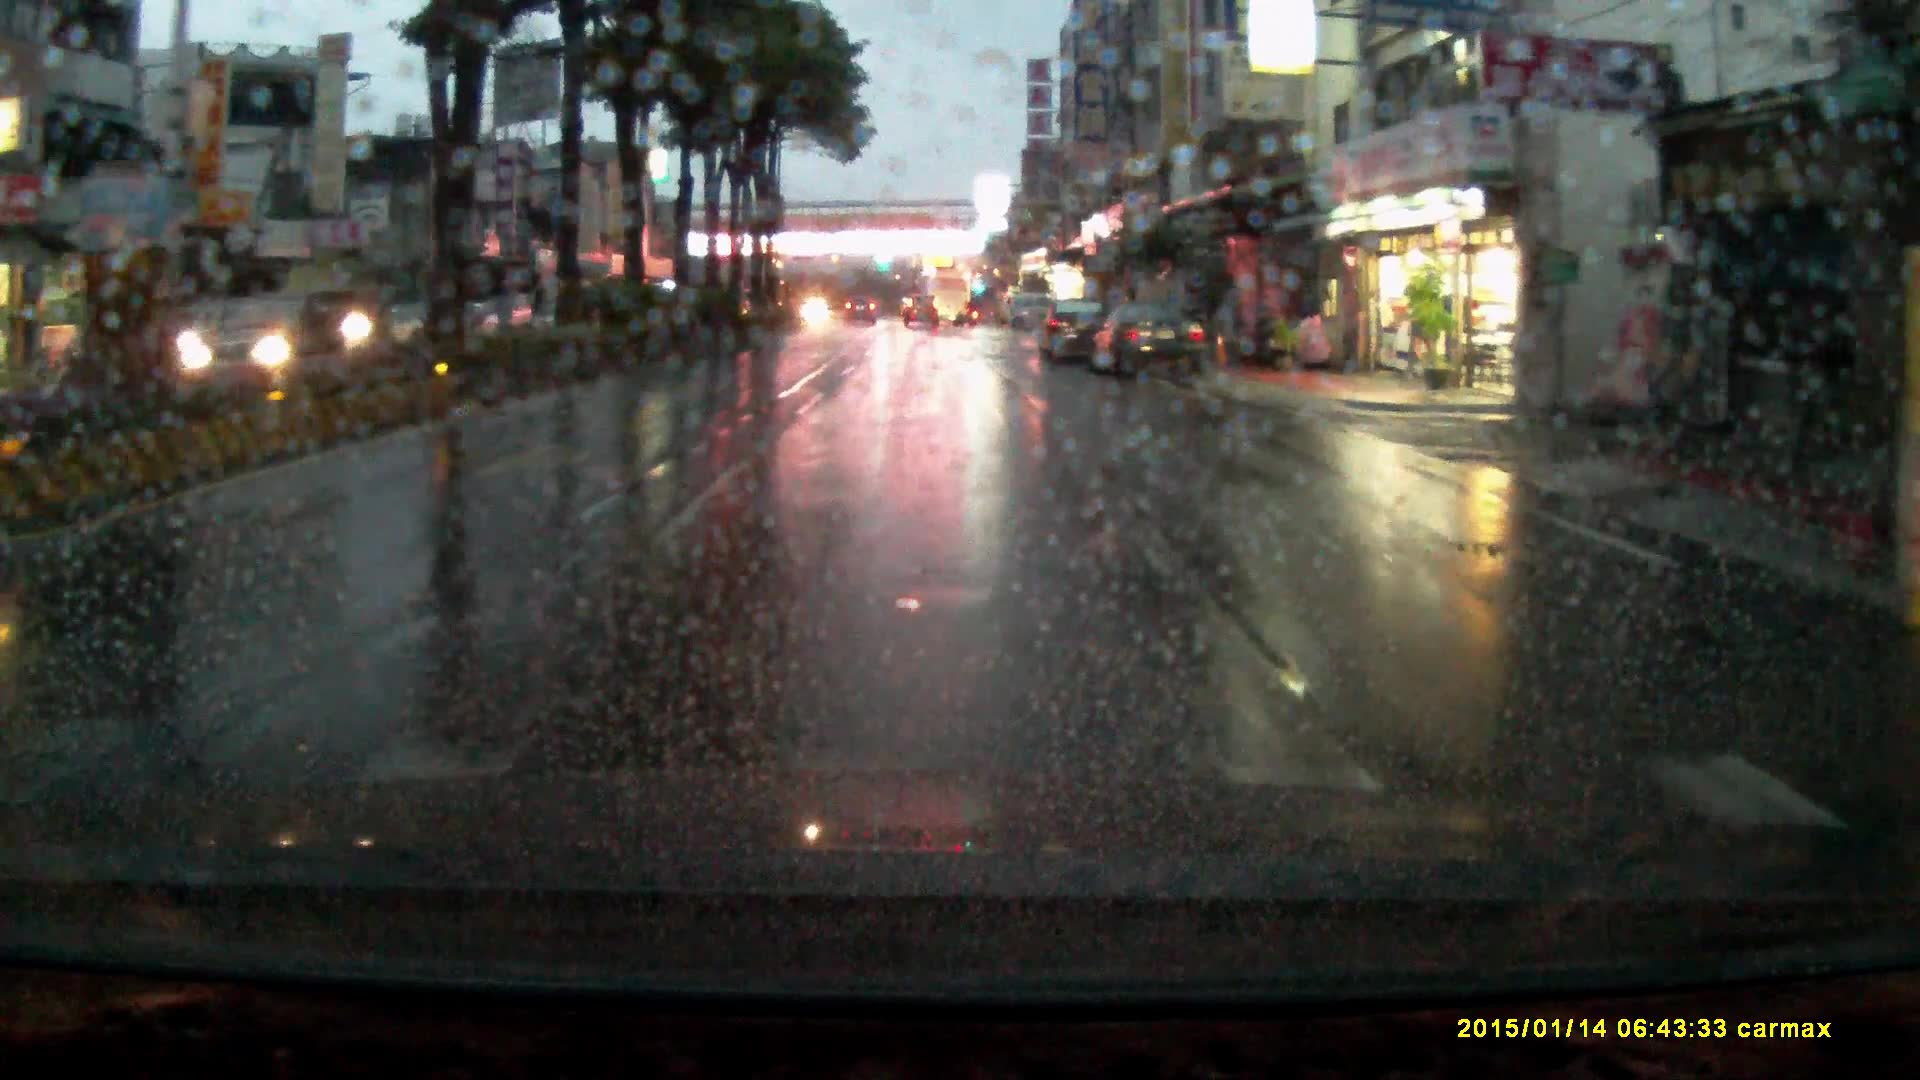rider: (325, 247, 410, 407)
vehicle: (182, 287, 366, 389), (1084, 299, 1206, 385), (163, 304, 255, 369), (1029, 297, 1105, 366), (913, 274, 971, 328), (900, 293, 936, 329), (841, 295, 874, 325)
